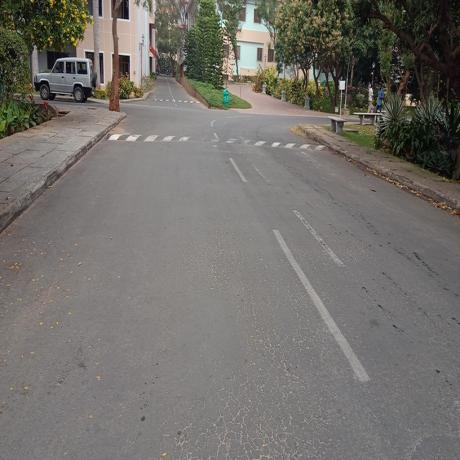Speed Bump: (105, 128, 327, 156)
